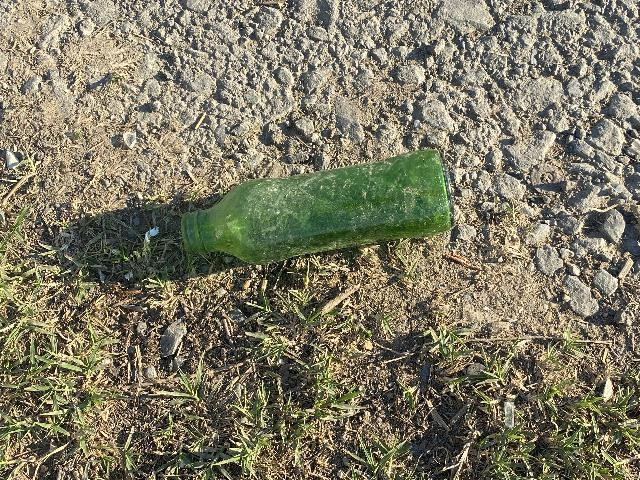Cam: (178, 137, 452, 270)
